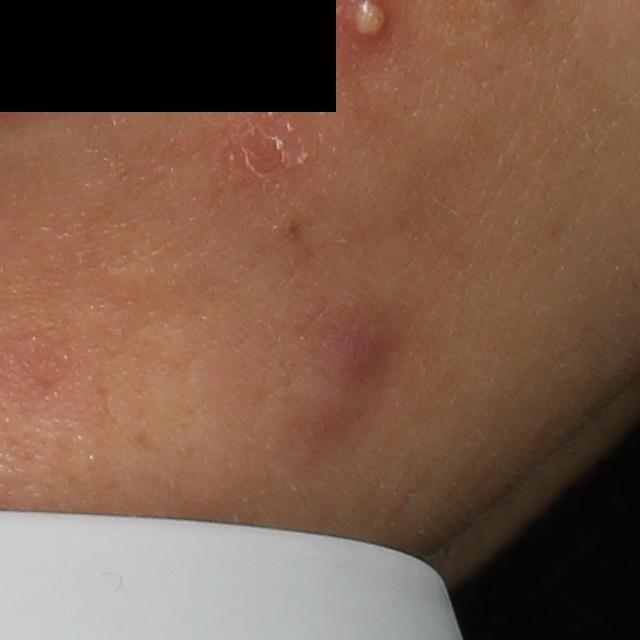papule: (203, 95, 315, 193), (305, 304, 387, 393)
